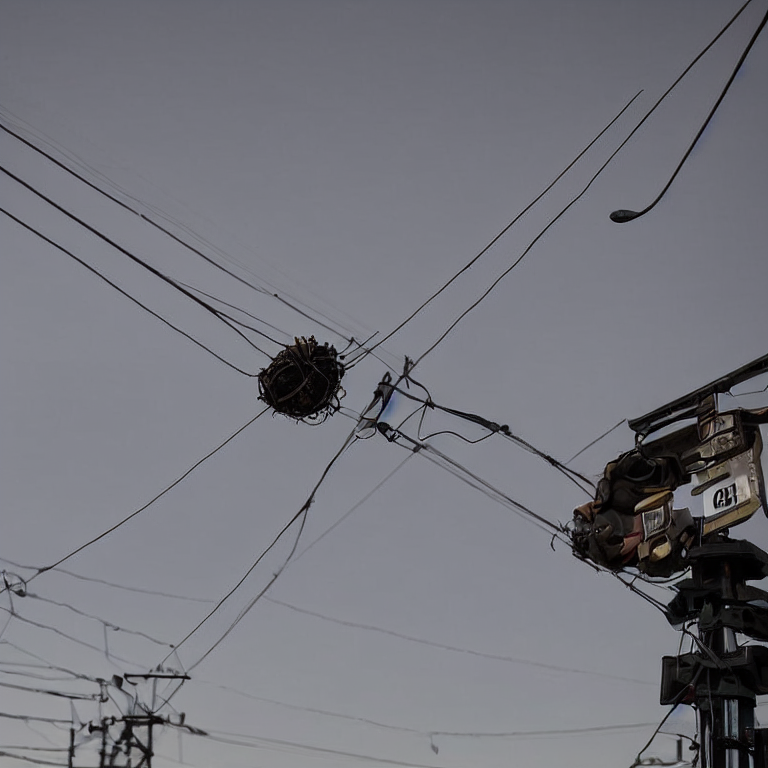nest: (258, 342, 344, 419)
